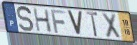F: (50, 9, 67, 35)
H: (32, 8, 54, 34)
S: (17, 5, 36, 33)
T: (85, 11, 99, 39)
V: (66, 9, 84, 37)
X: (101, 12, 122, 41)
